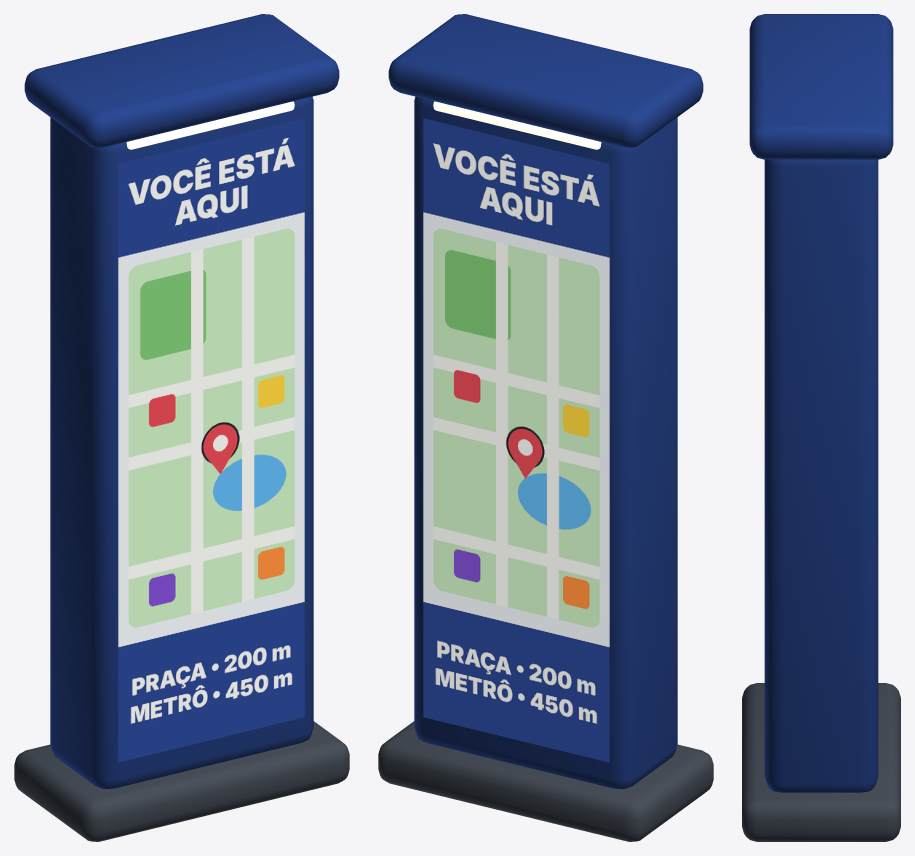
Rendered from totem_mapa_calcada.glb.
The picture shows the model from 3 angles, left to right: view 1: azimuth 30°, elevation 25°; view 2: azimuth 150°, elevation 25°; view 3: azimuth 270°, elevation 25°; orthographic projection.
Visible parts, largest first — view 1: totem_mapa_calcada; view 2: totem_mapa_calcada; view 3: totem_mapa_calcada.
Part boxes in pixels (x1,y1,x2,y2): totem_mapa_calcada: [14, 14, 349, 841]; totem_mapa_calcada: [378, 14, 713, 841]; totem_mapa_calcada: [742, 14, 900, 841].
Size of the model in its own units: 0.8 by 2.08 by 0.42.
3 materials, 2 textured.
